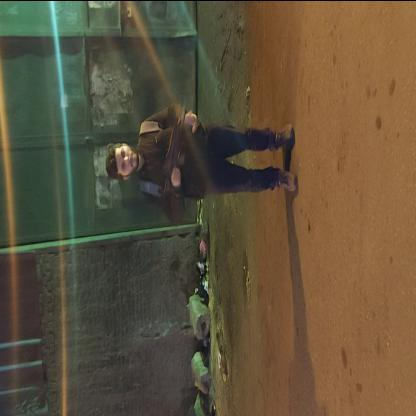long weapon: (154, 108, 192, 203)
